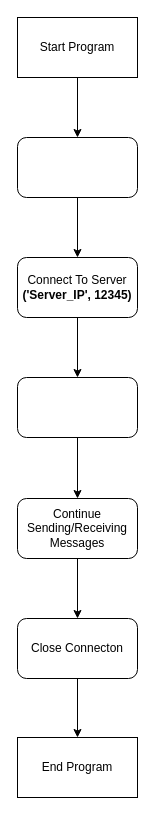
Image size: 155x815. Some labels were removed from this diagram. The centre of each missing label's shape, as x and y in pixels:
Initialize Client Socket (AF_INET, SOCK_STREAM): [77,167]
Send/Receive Messages: [77,407]
